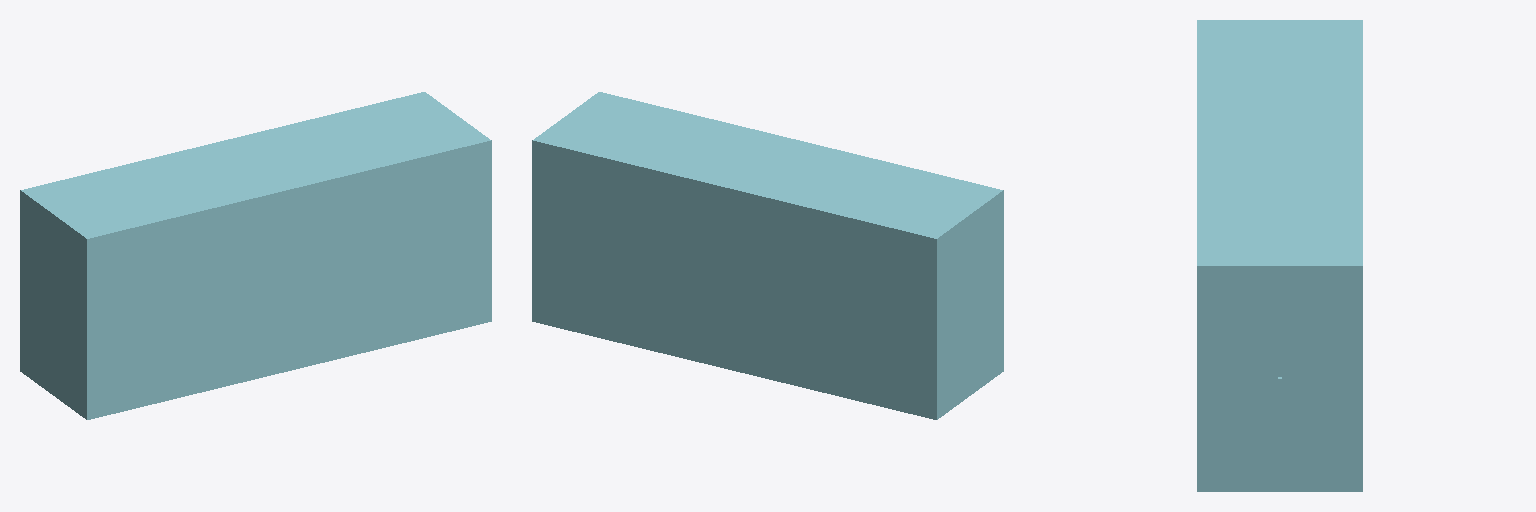
robot.urdf — primitive_large_eraser:
<?xml version="1.0"?>
<robot name="primitive_large_eraser">

  <link name="primitive_large_eraser">
    <!-- Handle -->
    <visual>
      <origin xyz="0 0 0" rpy="0 0 0"/>
      <geometry>
        <box size="0.14 0.04 0.06"/>
      </geometry>
      <material name="material">
        <color rgba="0.639 0.847 0.882 1.0"/>
      </material>
    </visual>
    <collision>
      <origin xyz="0 0 0" rpy="0 0 0"/>
      <geometry>
        <box size="0.14 0.04 0.06"/>
      </geometry>
    </collision>

    <!-- Head -->
    <visual>
      <origin xyz="0.07050000000000001 0 0" rpy="0 0 0"/>
      <geometry>
        <box size="0.001 0.001 0.001"/>
      </geometry>
      <material name="material">
        <color rgba="0.639 0.847 0.882 1.0"/>
      </material>
    </visual>
    <collision>
      <origin xyz="0.07050000000000001 0 0" rpy="0 0 0"/>
      <geometry>
        <box size="0.001 0.001 0.001"/>
      </geometry>
    </collision>

    <inertial>
      <density value="400.0"/>
    </inertial>
  </link>

</robot>

--- Facts derived from the render (not from the file) ---
The picture shows the robot from 3 angles, left to right: view 1: azimuth 30°, elevation 25°; view 2: azimuth 150°, elevation 25°; view 3: azimuth 270°, elevation 25°; orthographic projection.
Robot: primitive_large_eraser — 1 links, 0 joints (none); root link primitive_large_eraser; default pose: every joint at zero.
Links seen in each view (by area): view 1: primitive_large_eraser; view 2: primitive_large_eraser; view 3: primitive_large_eraser.
Link boxes in pixels (left/top/right/bottom): primitive_large_eraser: left=20, top=92, right=491, bottom=419; primitive_large_eraser: left=532, top=92, right=1003, bottom=419; primitive_large_eraser: left=1197, top=20, right=1362, bottom=491.
Bounding box of the posed robot: 0.141 × 0.04 × 0.06 m (x, y, z).
Geometry: primitives only (box / cylinder / sphere), no mesh files.
